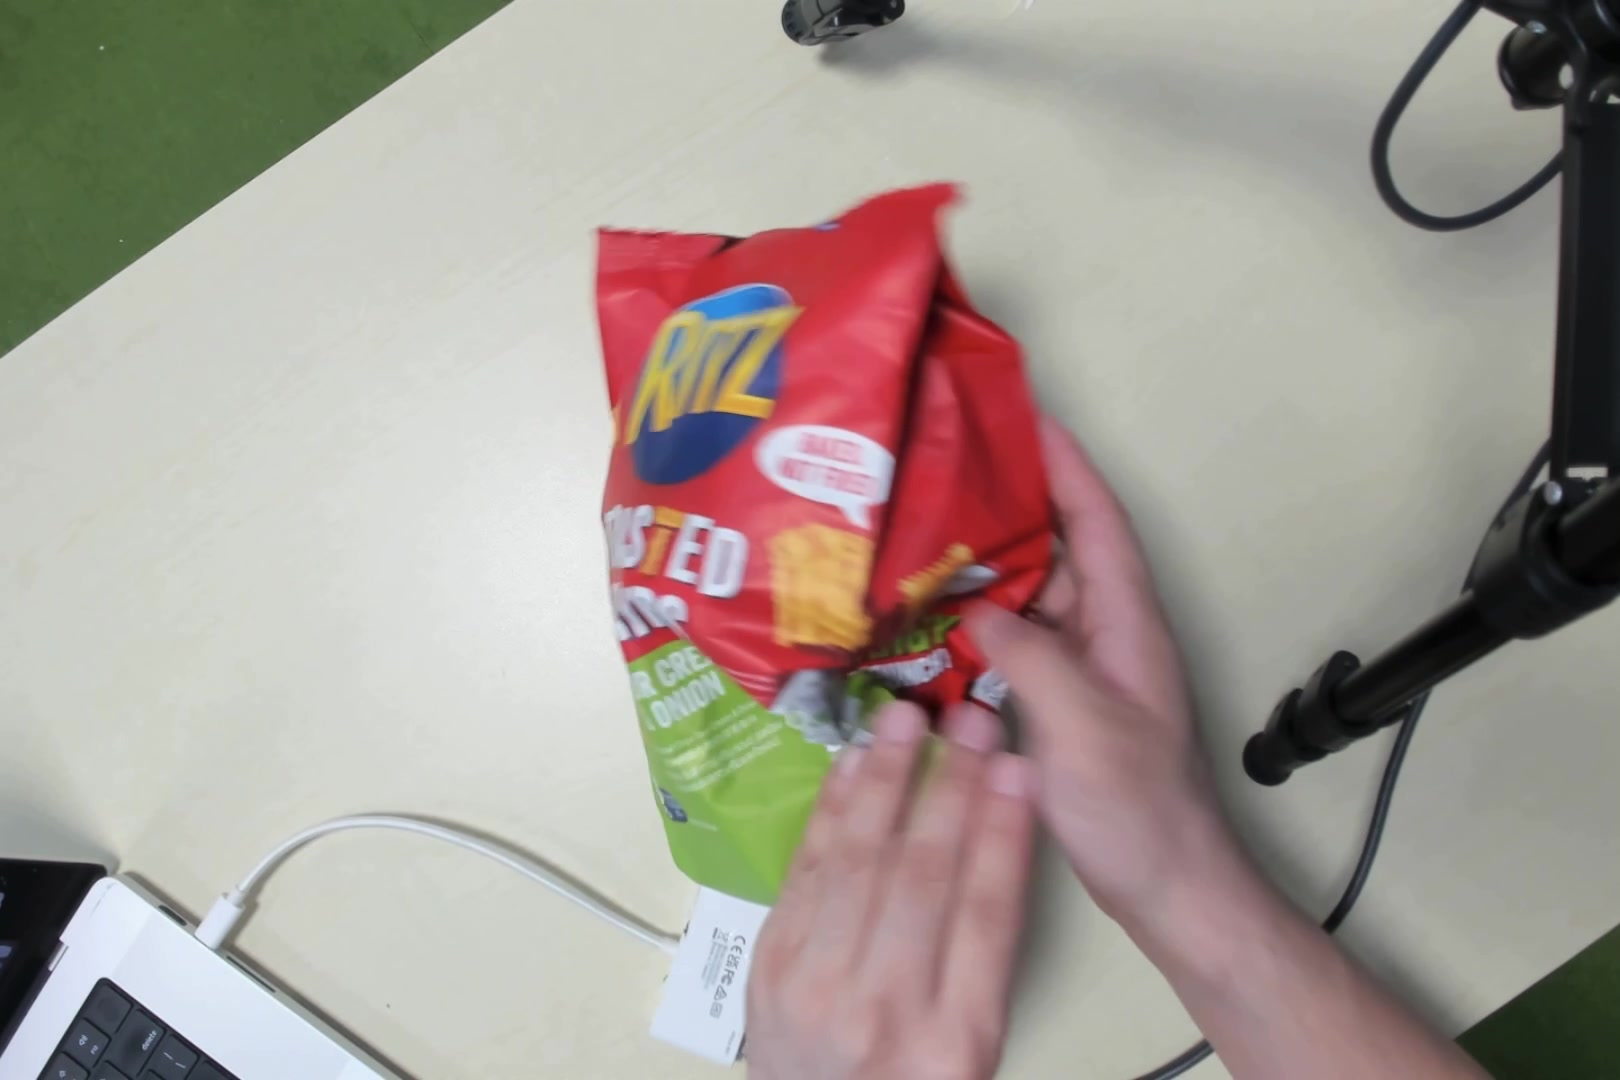BiscuitsCrackersCookies_200-299g_NonHalal_NonHealthy: (592, 219, 1035, 917)
